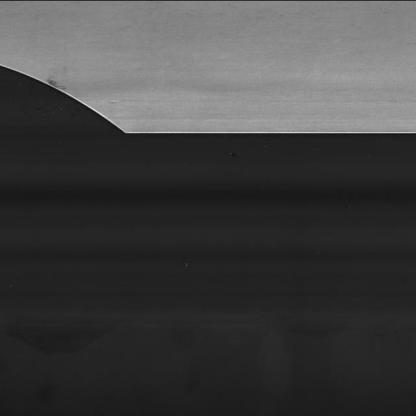crescent_gap: (1, 55, 131, 150)
